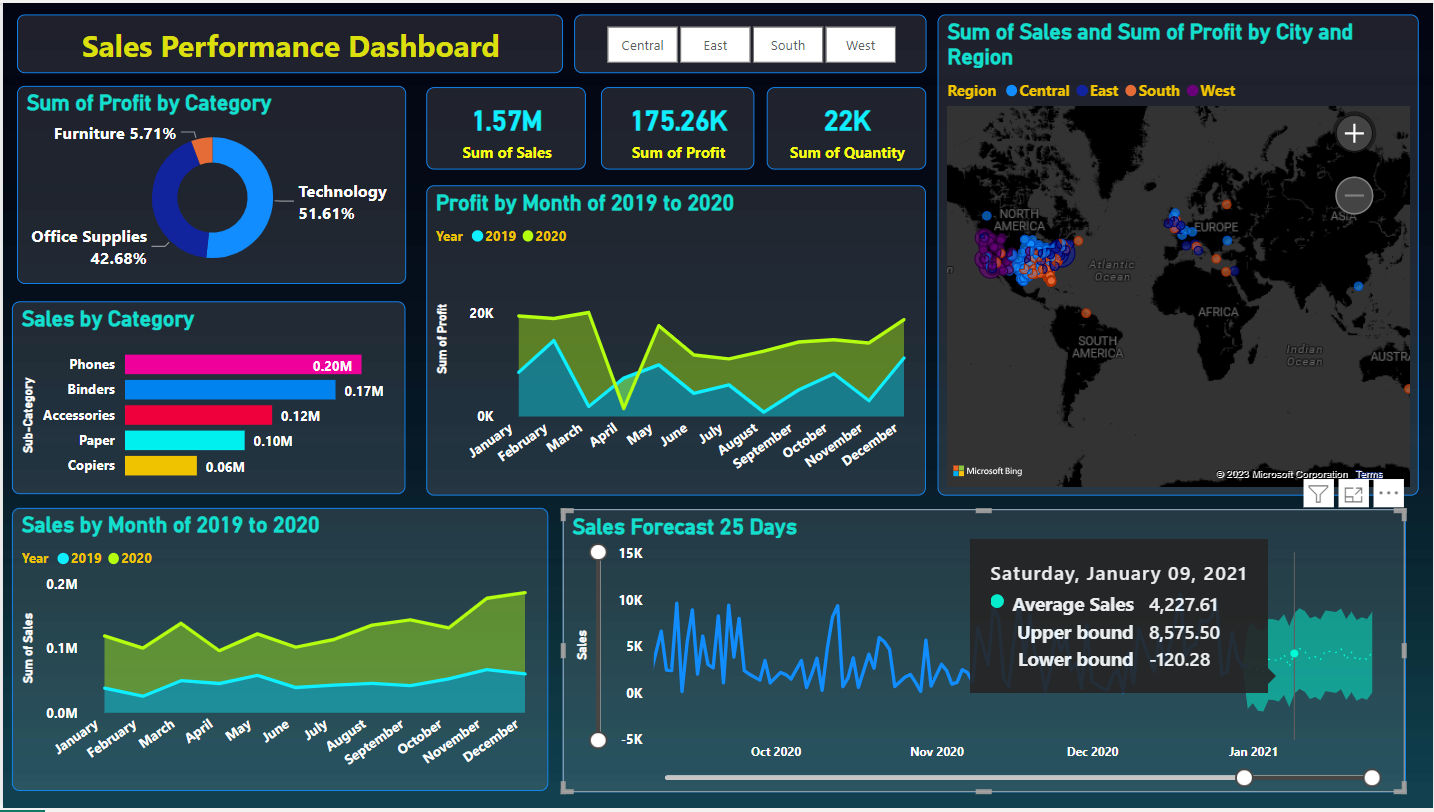

This screenshot's page, from the dashboard's own definition file:
{"tool":"powerbi","page":{"name":"Page 1","canvas":[1280,720],"ordinal":0},"visuals":[{"type":"clusteredBarChart","title":"Sales by Category","fields":{"Category":["SuperStore_Sales_Dataset.Sub-Category"],"Y":["Sum(SuperStore_Sales_Dataset.Sales)"]},"box":[8.5,267.5,352.4,172.7],"z":0},{"type":"stackedAreaChart","title":"Profit by Month of 2019 to 2020","fields":{"Category":["SuperStore_Sales_Dataset.Order Date.Variation.Date Hierarchy.Month","SuperStore_Sales_Dataset.Order Date.Variation.Date Hierarchy.Day"],"Series":["SuperStore_Sales_Dataset.Order Date.Variation.Date Hierarchy.Year"],"Y":["Sum(SuperStore_Sales_Dataset.Profit)"]},"box":[379.3,162.8,447.3,277.4],"z":1000},{"type":"stackedAreaChart","title":"Sales by Month of 2019 to 2020","fields":{"Category":["SuperStore_Sales_Dataset.Order Date.Variation.Date Hierarchy.Month","SuperStore_Sales_Dataset.Order Date.Variation.Date Hierarchy.Day"],"Series":["SuperStore_Sales_Dataset.Order Date.Variation.Date Hierarchy.Year"],"Y":["Sum(SuperStore_Sales_Dataset.Sales)"]},"box":[8.5,451.5,479.8,253.4],"z":2000},{"type":"map","fields":{"Category":["SuperStore_Sales_Dataset.City"],"Size":["Sum(SuperStore_Sales_Dataset.Sales)"],"Series":["SuperStore_Sales_Dataset.Region"]},"box":[836.5,9.9,430.3,430.3],"z":3000},{"type":"donutChart","fields":{"Y":["Sum(SuperStore_Sales_Dataset.Profit)"],"Category":["SuperStore_Sales_Dataset.Category"]},"box":[12.7,73.6,348.2,176.9],"z":4000},{"type":"textbox","box":[12.7,9.9,488.3,52.4],"z":5000},{"type":"slicer","fields":{"Values":["SuperStore_Sales_Dataset.Region"]},"box":[511,9.9,315.6,52.4],"z":6000},{"type":"card","fields":{"Values":["Sum(SuperStore_Sales_Dataset.Sales)"]},"box":[379.3,75,143,73.6],"z":7000},{"type":"card","fields":{"Values":["Sum(SuperStore_Sales_Dataset.Profit)"]},"box":[535,75,137.3,73.6],"z":8000},{"type":"card","fields":{"Values":["Sum(SuperStore_Sales_Dataset.Quantity)"]},"box":[683.7,75,143,73.6],"z":9000},{"type":"lineChart","title":"Sales Forecast 25 Days","fields":{"Category":["SuperStore_Sales_Dataset.Order Date"],"Y":["Sum(SuperStore_Sales_Dataset.Sales)"]},"box":[500.9,451.8,765.6,253.3],"z":10000}]}

Visuals, with their boxes in screenshot pixels (x1, y1, x2, y2), scaled from the page's 1280x720 canvas onto the 1434x812 screenshot:
"Sales by Category" clusteredBarChart: 10,302,404,496
"Profit by Month of 2019 to 2020" stackedAreaChart: 425,184,926,496
"Sales by Month of 2019 to 2020" stackedAreaChart: 10,509,547,795
map - SuperStore_Sales_Dataset.City x Sum(SuperStore_Sales_Dataset.Sales): 937,11,1419,496
donutChart - Sum(SuperStore_Sales_Dataset.Profit) x SuperStore_Sales_Dataset.Category: 14,83,404,283
textbox: 14,11,561,70
slicer - SuperStore_Sales_Dataset.Region: 572,11,926,70
card - Sum(SuperStore_Sales_Dataset.Sales): 425,85,585,168
card - Sum(SuperStore_Sales_Dataset.Profit): 599,85,753,168
card - Sum(SuperStore_Sales_Dataset.Quantity): 766,85,926,168
"Sales Forecast 25 Days" lineChart: 561,510,1419,795
